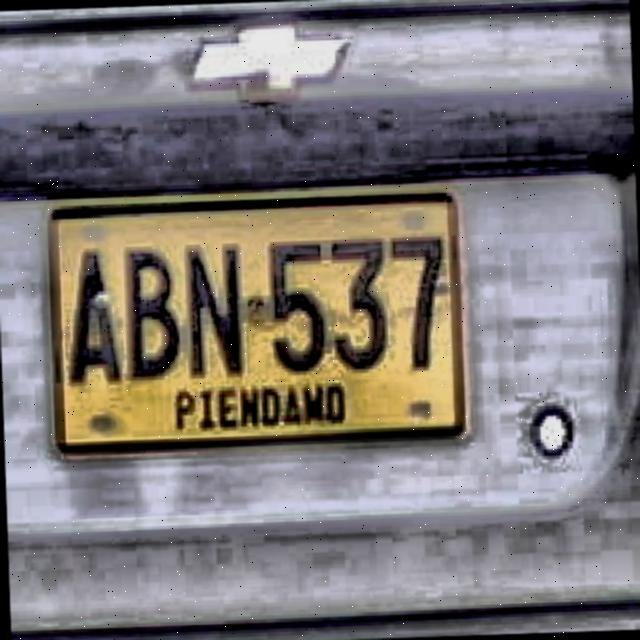3: (327, 233, 396, 376)
5: (266, 235, 333, 377)
7: (386, 233, 449, 373)
A: (66, 243, 126, 388)
B: (119, 241, 185, 383)
N: (181, 236, 249, 382)
